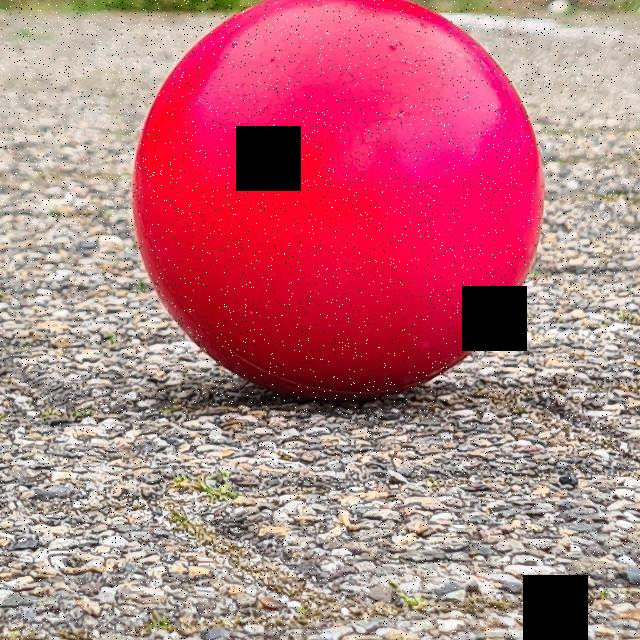ball: (130, 0, 559, 410)
